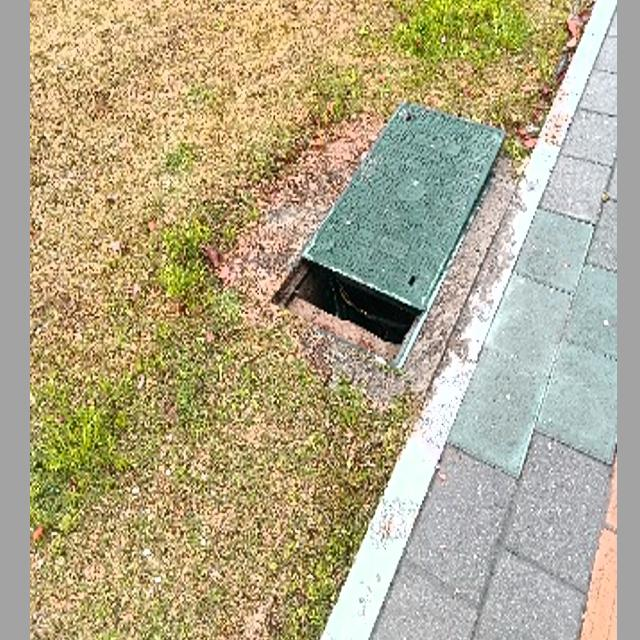uncovered: (266, 101, 506, 367)
